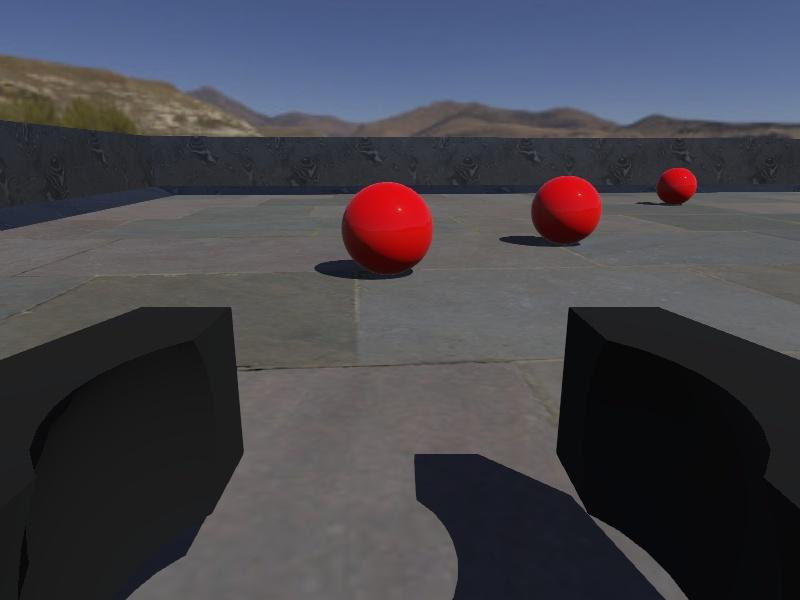red ball: (340, 180, 435, 278), (529, 175, 603, 246), (655, 165, 698, 206)
